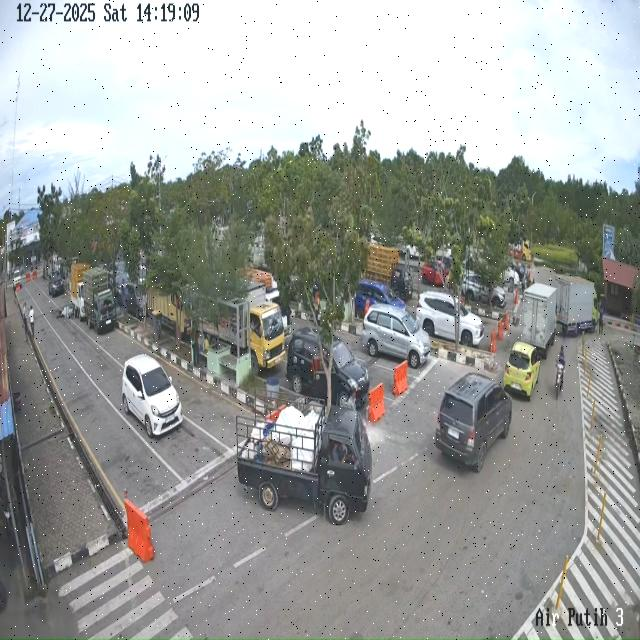Golongan IVA: (435, 373, 512, 472), (286, 327, 370, 408), (122, 354, 183, 438), (361, 304, 431, 368), (416, 290, 484, 347), (503, 341, 541, 401), (354, 279, 406, 318), (462, 271, 506, 308), (422, 261, 448, 287), (48, 271, 64, 297)
Golongan IVB: (236, 392, 372, 525), (82, 267, 116, 334), (70, 262, 90, 321)
Golongan VB: (202, 281, 286, 374), (521, 283, 557, 359), (555, 274, 598, 336)
